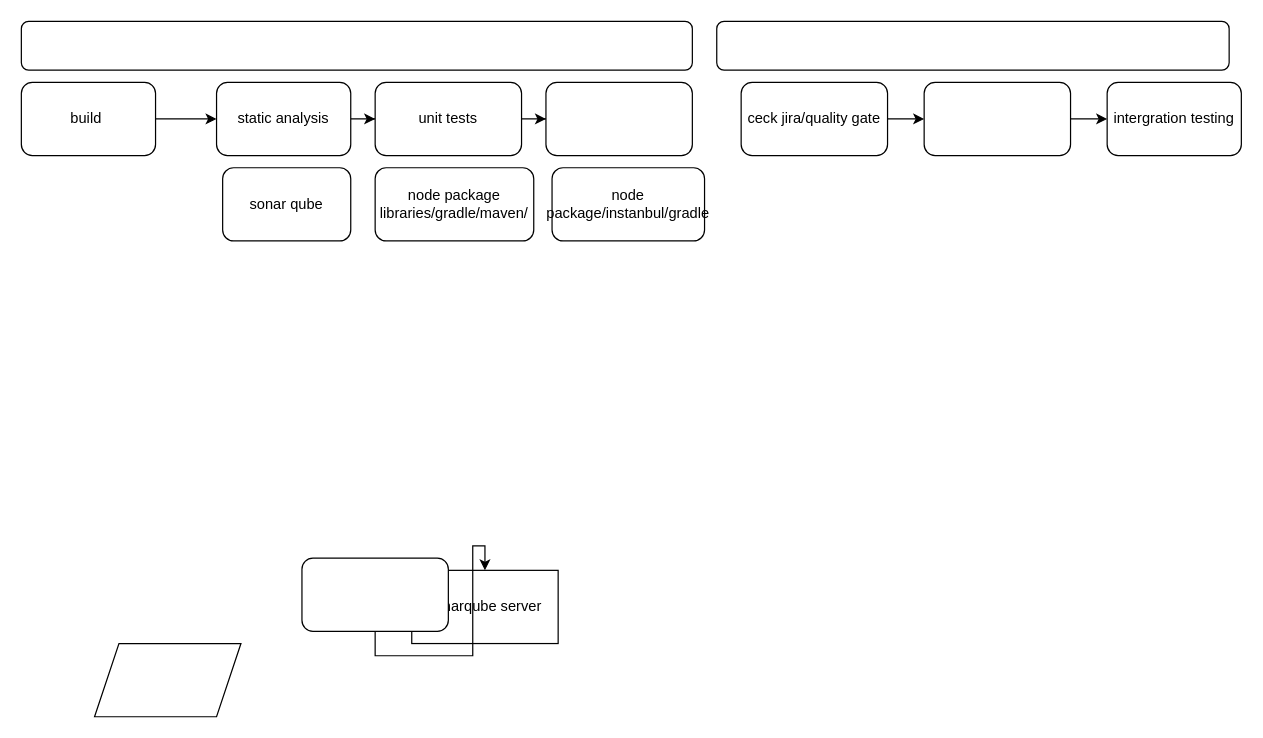
Image size: 1263x738. Some labels were removed from this diagram. The centre of each missing label's shape, as x and y in pixels:
CD: point (972, 45)
CI: point (356, 45)
code coverage: point (618, 118)
deploy: point (997, 118)
sonar scanner: point (374, 594)
